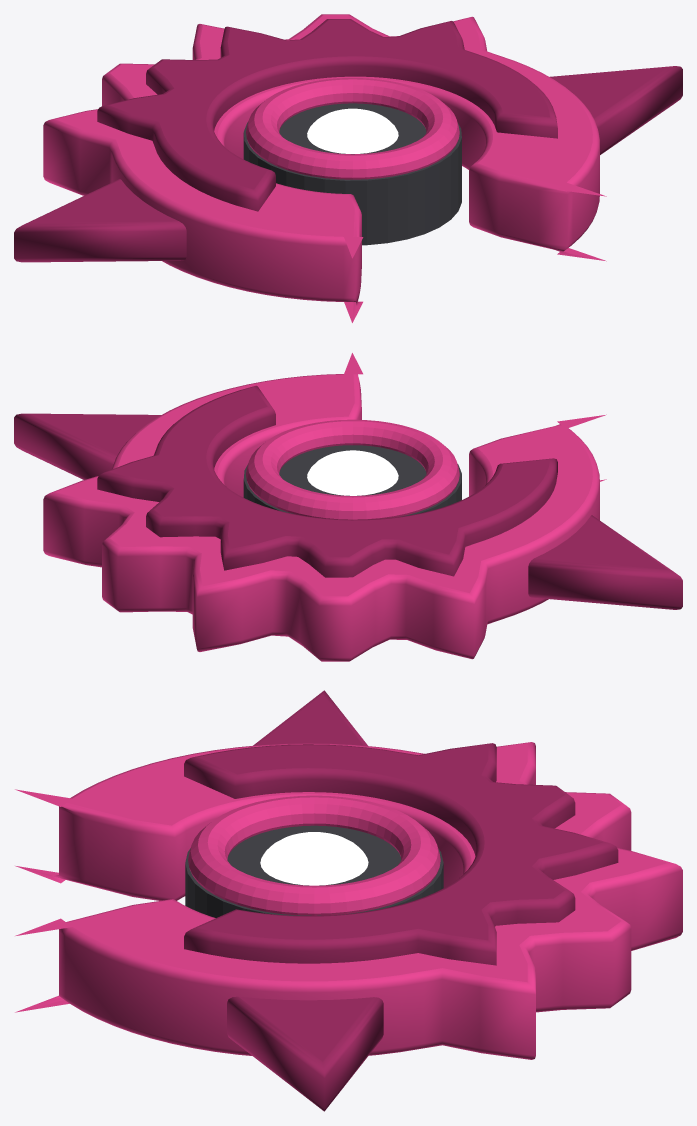
Rendered from nave_viola.glb.
3 views of the same model, one above another, from view 1: azimuth 30°, elevation 25°; view 2: azimuth 150°, elevation 25°; view 3: azimuth 270°, elevation 25° (orthographic). The views are drawn at different scales.
Visible parts, largest first — view 1: nave; view 2: nave; view 3: nave.
Boxes of the visible parts, x1,y1,x2,y2 form: nave: (14, 14, 682, 322); nave: (14, 353, 682, 661); nave: (15, 690, 682, 1111).
Size of the model in its own units: 1.62 by 0.195 by 1.19.
